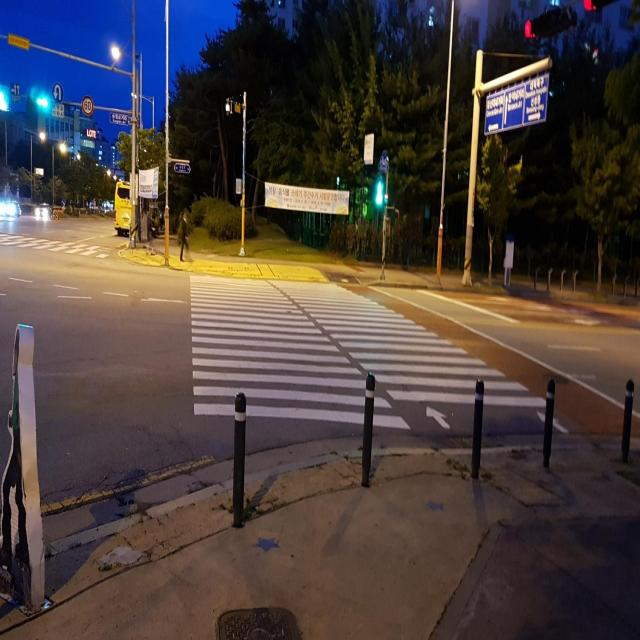초록불: (375, 179, 383, 210)
횡단보도: (187, 272, 570, 437), (0, 231, 116, 263)
